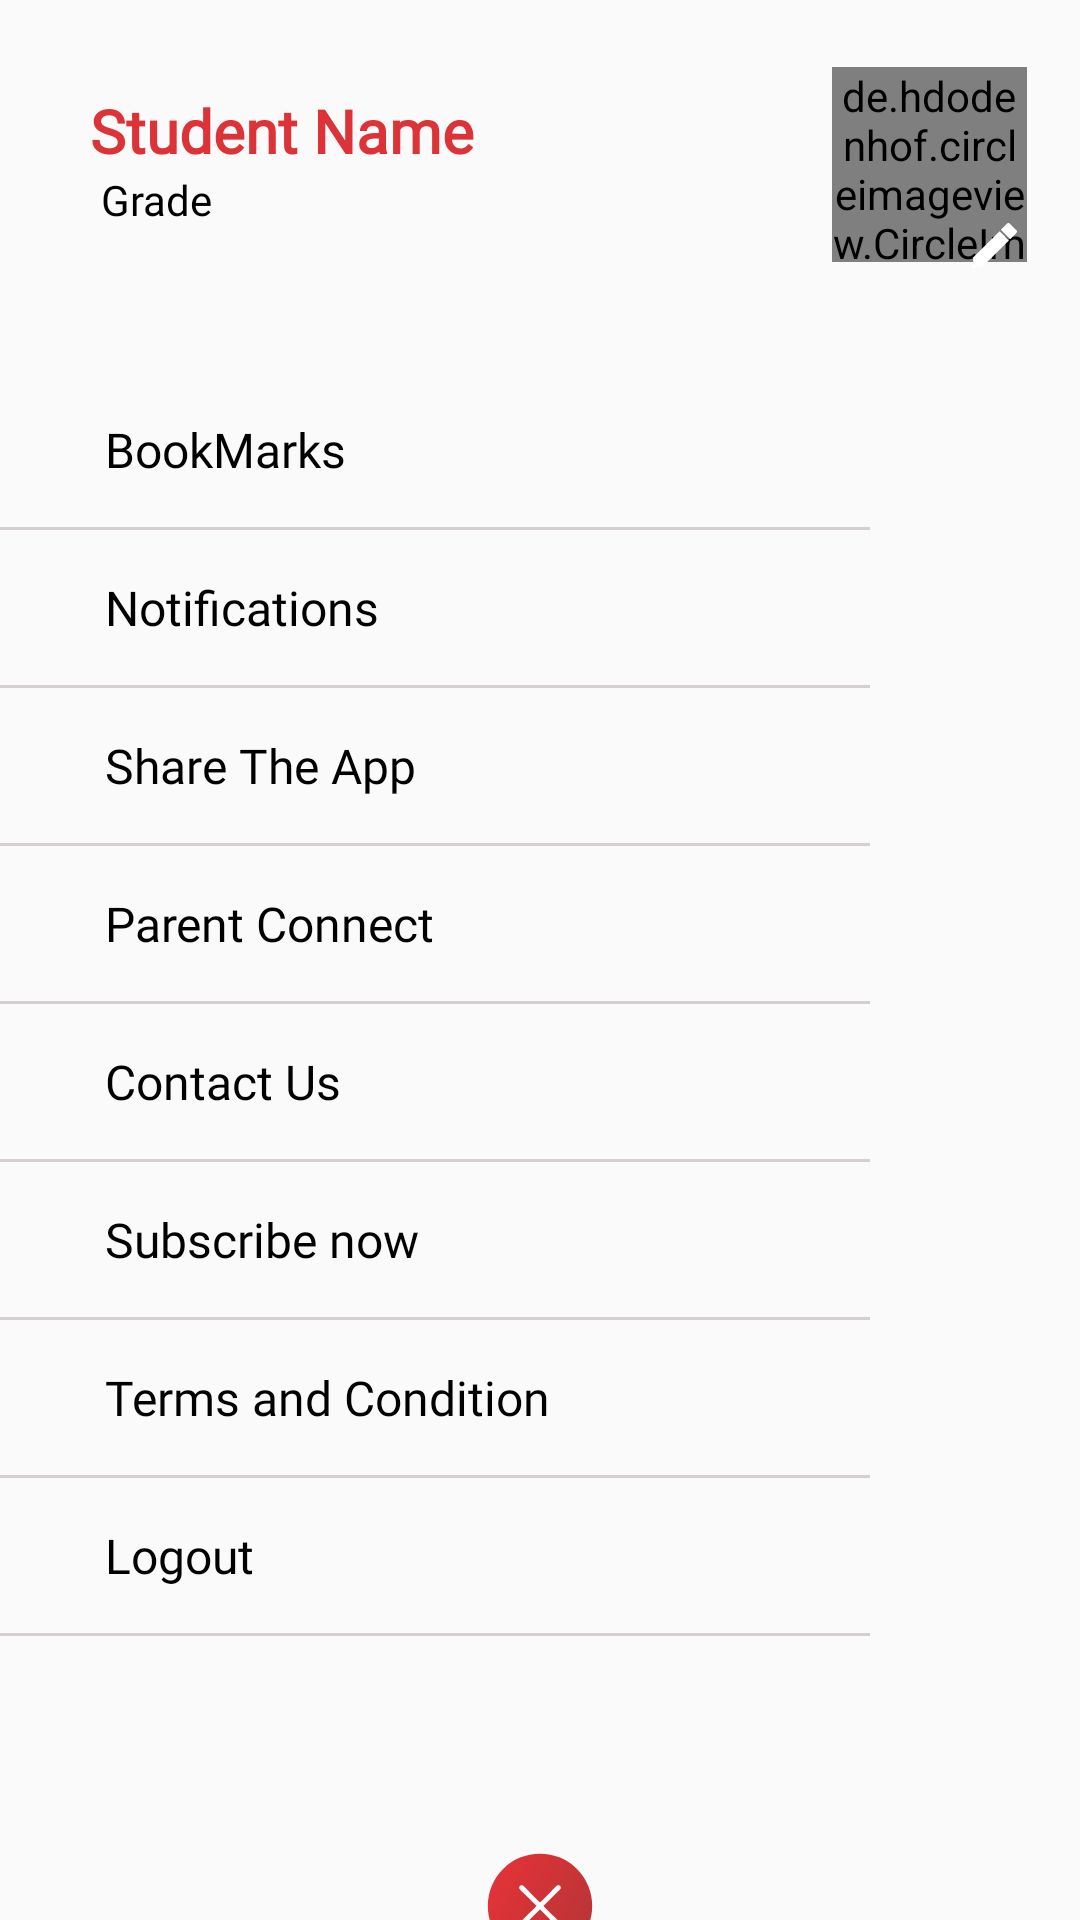

Icon click points for this 1080px×1920px phone screenshot, format [x,y]:
tools edit: [994,245]
